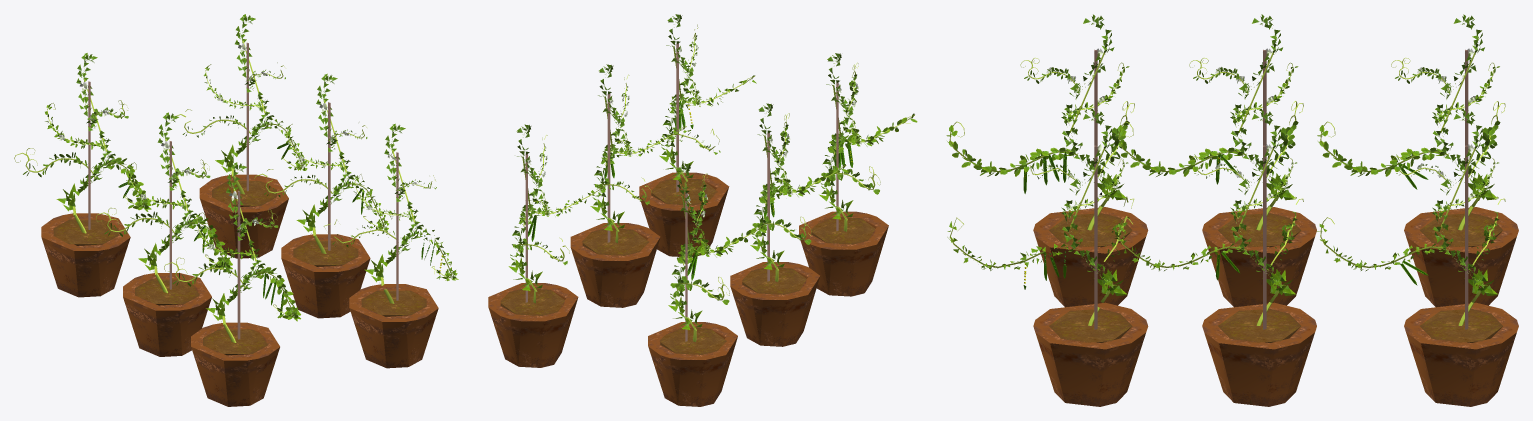
File: level_3.fbx
3 renders of one model, left to right at view 1: azimuth 30°, elevation 25°; view 2: azimuth 150°, elevation 25°; view 3: azimuth 270°, elevation 25°, orthographic. The views are drawn at different scales.
Parts seen in each view (by area): view 1: reduse_plant2, plnt_3, plant2, plant_1; view 2: reduse_plant2, plant2, plant_1, plnt_3; view 3: reduse_plant2, plnt_3, plant2, plant_1.
Part boxes in pixels (<box>): reduse_plant2: <box>173,14,458,368</box>; plnt_3: <box>164,162,300,406</box>; plant2: <box>14,53,151,297</box>; plant_1: <box>96,112,232,356</box>; reduse_plant2: <box>488,14,756,367</box>; plant2: <box>648,163,766,406</box>; plant_1: <box>730,103,848,346</box>; plnt_3: <box>799,53,917,296</box>; reduse_plant2: <box>947,110,1518,406</box>; plnt_3: <box>946,14,1148,307</box>; plant2: <box>1317,14,1518,307</box>; plant_1: <box>1115,14,1316,307</box>.
Size of the model in its own units: 99.16 by 86.63 by 158.
Materials: 9 (4 with a texture image).
